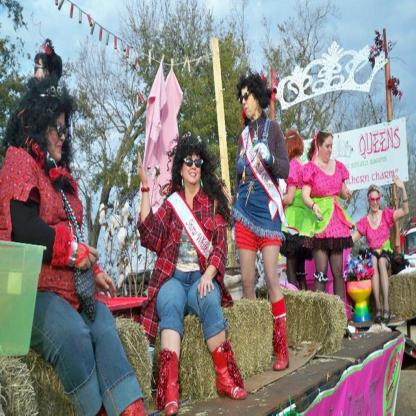face: (48, 113, 67, 162), (183, 154, 203, 186), (242, 88, 258, 119), (322, 137, 334, 164), (35, 62, 45, 89), (370, 193, 380, 211)
